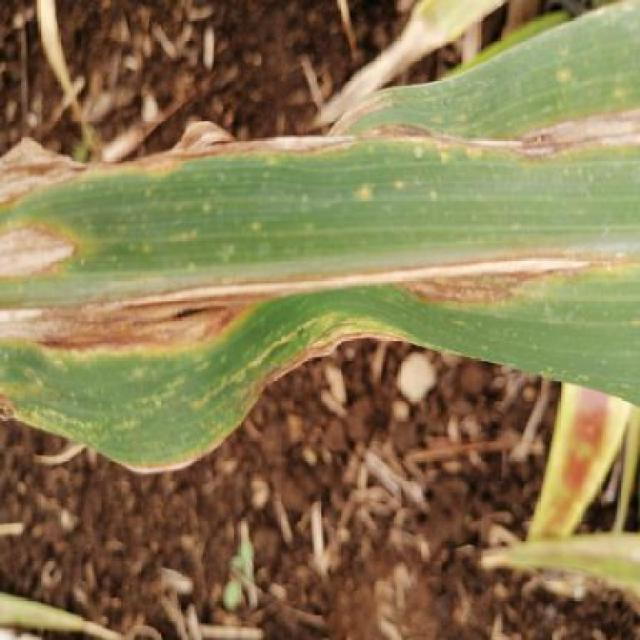Corn_Leaf_Blight: (0, 11, 640, 464)
